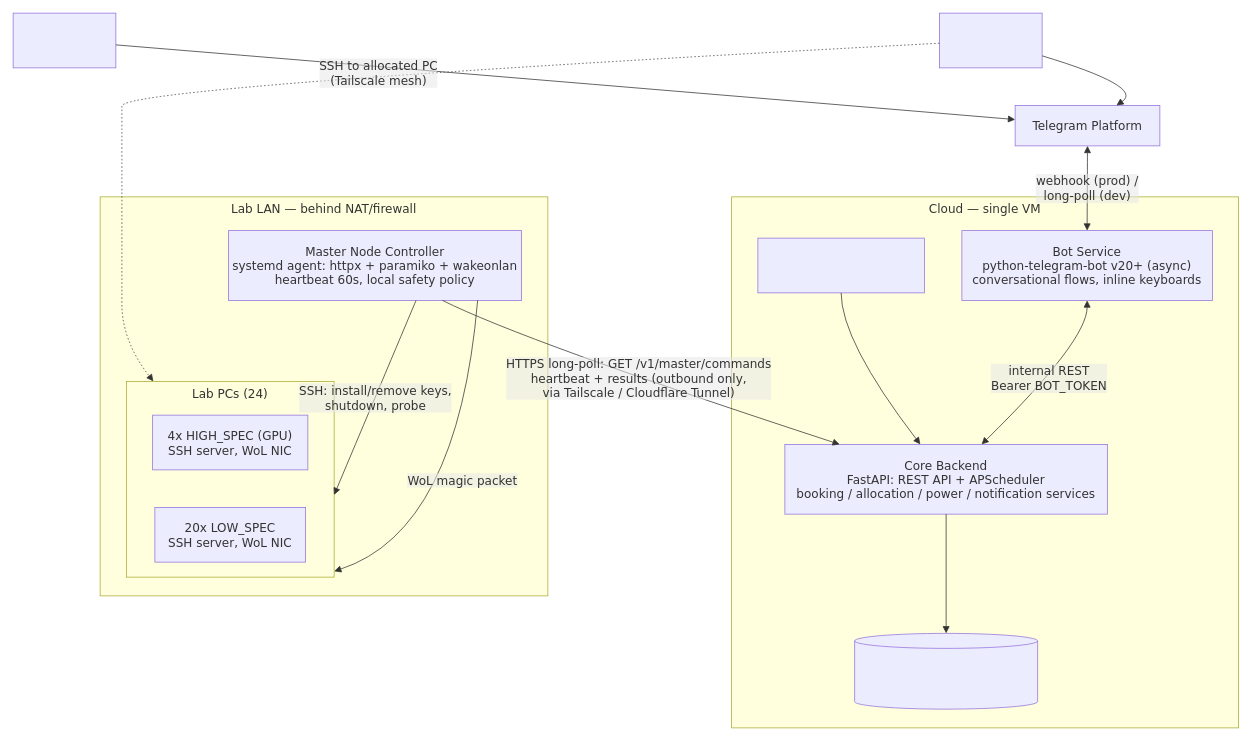
Some shapes in this 1252 by 741 pixel diagram are drawn without their labels. Here are the shapes that lost their labels. From the top down, the centre of each, then its label:
the point at 64,40: Admin (Telegram)
the point at 990,40: Student (Telegram)
the point at 840,265: Admin Web (optional) FastAPI + Jinja2/HTMX
the point at 946,671: PostgreSQL 15+ bookings, allocations, command_queue, outbox, audit
